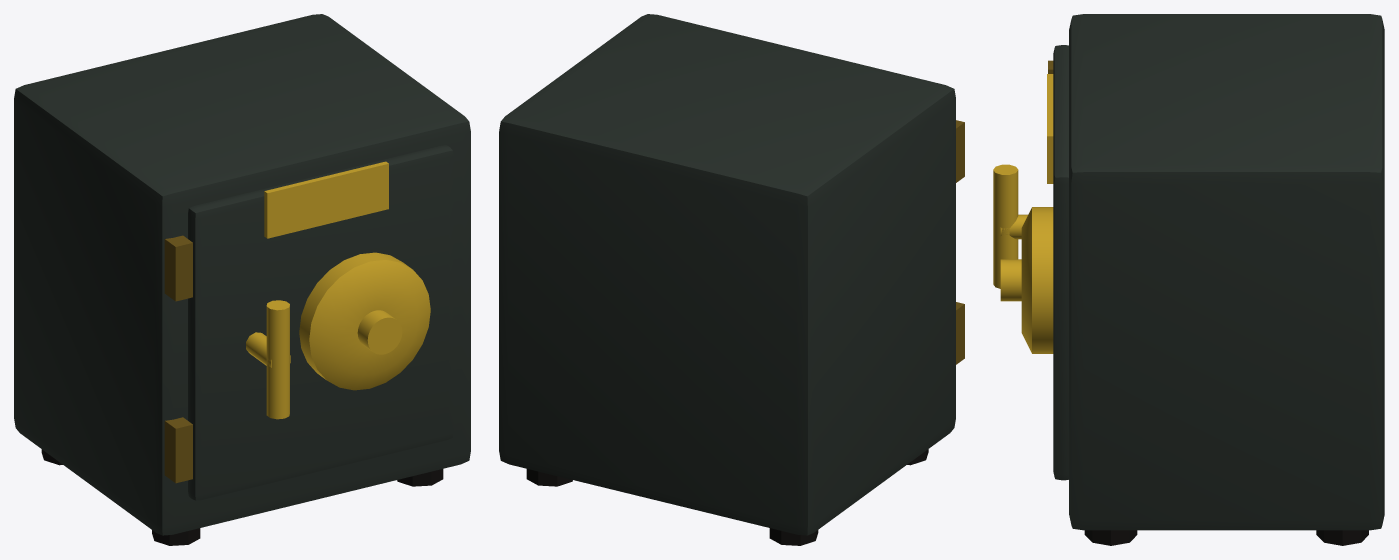
Rendered from safe.glb.
3 views of the same model, side by side, from view 1: azimuth 30°, elevation 25°; view 2: azimuth 150°, elevation 25°; view 3: azimuth 270°, elevation 25° (orthographic). The views are drawn at different scales.
Parts seen in each view (by area): view 1: Body, Dial, Handle; view 2: Body; view 3: Body, Dial, Handle.
Boxes of the visible parts, bbox=[...] form: Body: bbox=[14, 14, 470, 545]; Dial: bbox=[299, 252, 430, 390]; Handle: bbox=[246, 300, 290, 419]; Body: bbox=[499, 14, 964, 545]; Body: bbox=[1047, 14, 1384, 545]; Dial: bbox=[1000, 207, 1053, 353]; Handle: bbox=[993, 164, 1027, 288].
Size of the model in its own units: 0.36 by 0.4 by 0.372.
